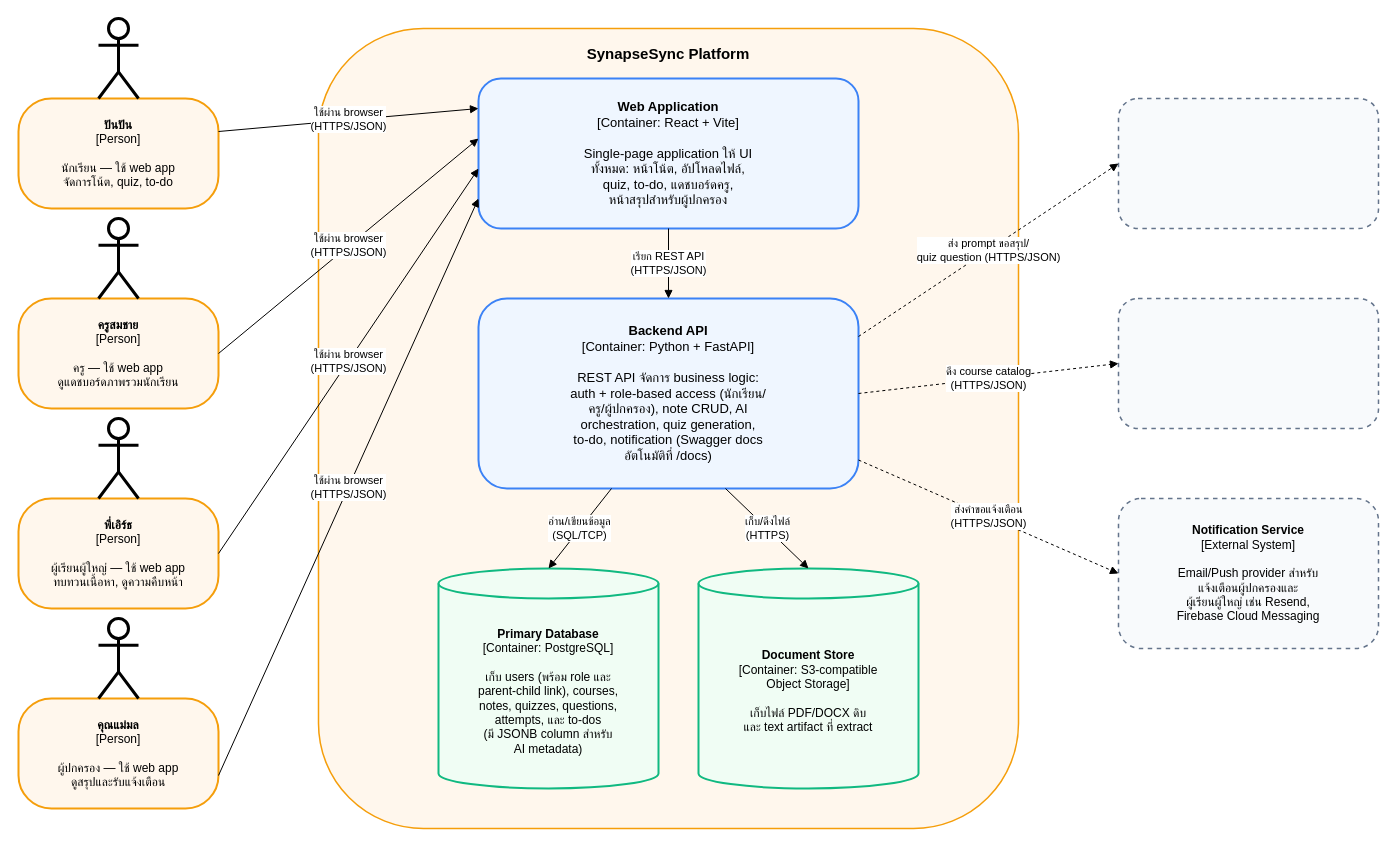
Some shapes in this 1396 by 847 pixel diagram are drawn without their labels. The shapes that lost their labels are listed below. From the top down, each one's centre as x and y in pixels, then its label:
At (x=1248, y=163): "LLM Provider API [External System] OpenAI GPT-4o-mini".
At (x=1248, y=363): "University LMS API [External System] Moodle REST API".
